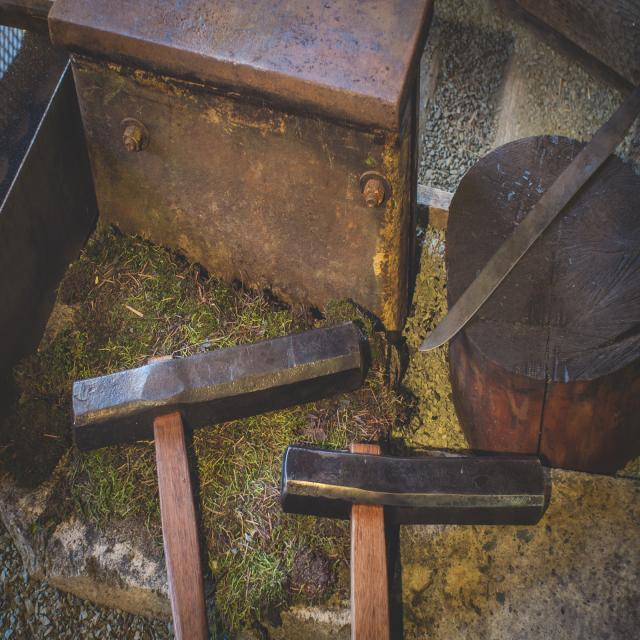hammer: (62, 304, 373, 640), (266, 441, 555, 640)
